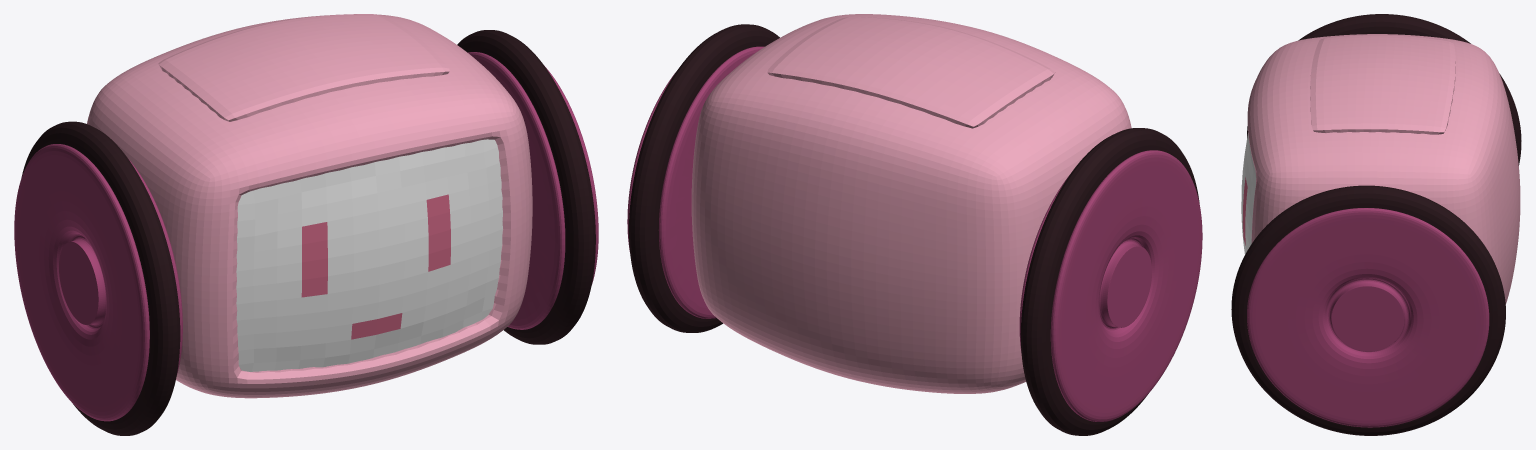
Rendered from my-bot.glb.
The picture shows the model from 3 angles, left to right: view 1: azimuth 30°, elevation 25°; view 2: azimuth 150°, elevation 25°; view 3: azimuth 270°, elevation 25°; orthographic projection. The views are drawn at different scales.
Visible parts, largest first — view 1: body, kolo, obrazovka, body.001; view 2: body, kolo, body.001; view 3: kolo, body, body.001, obrazovka.
Part boxes in pixels (x1,y1,x2,y2): body: [87, 14, 532, 398]; kolo: [14, 30, 598, 435]; obrazovka: [236, 139, 502, 371]; body.001: [158, 14, 449, 121]; body: [691, 14, 1131, 393]; kolo: [627, 24, 1202, 435]; body.001: [767, 17, 1055, 128]; kolo: [1231, 14, 1521, 435]; body: [1247, 34, 1520, 304]; body.001: [1310, 35, 1455, 134]; obrazovka: [1241, 132, 1256, 254].
Bounding box in the file's own units: 3.67 × 2.54 × 2.37.
